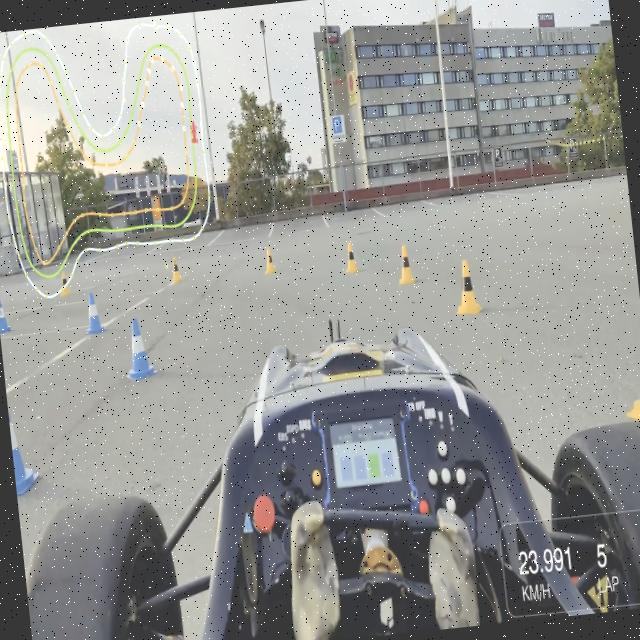blue_cone: (118, 312, 159, 388), (78, 288, 108, 340)
yellow_cone: (446, 252, 484, 318), (392, 239, 421, 286), (339, 234, 364, 278), (165, 248, 189, 290), (258, 242, 276, 274)
